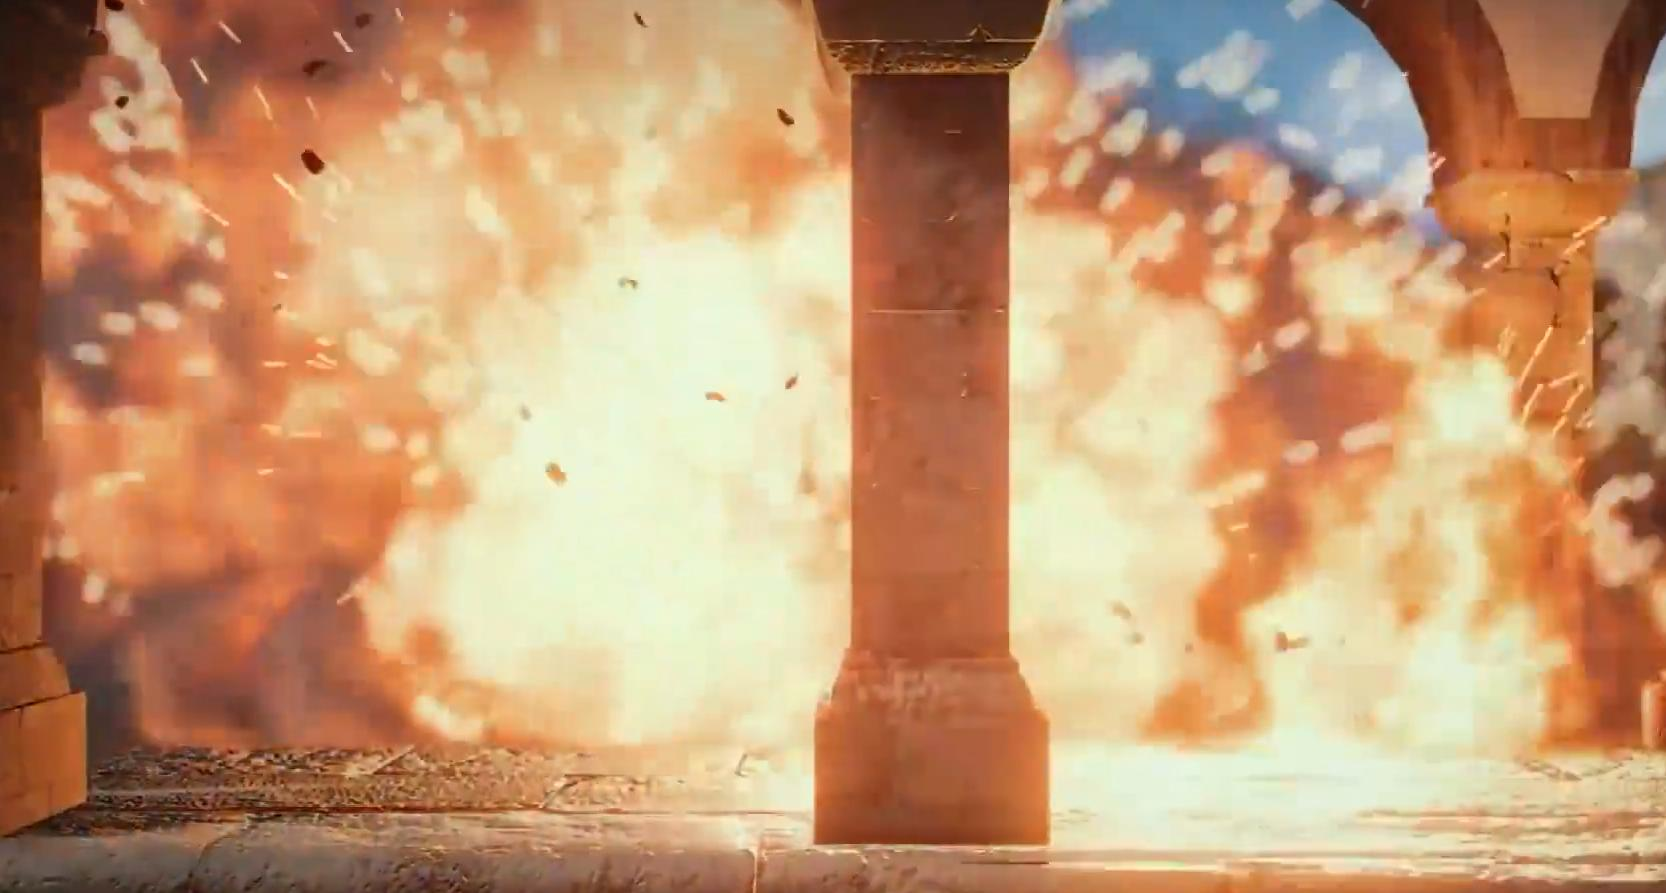fire: (52, 3, 1615, 833)
